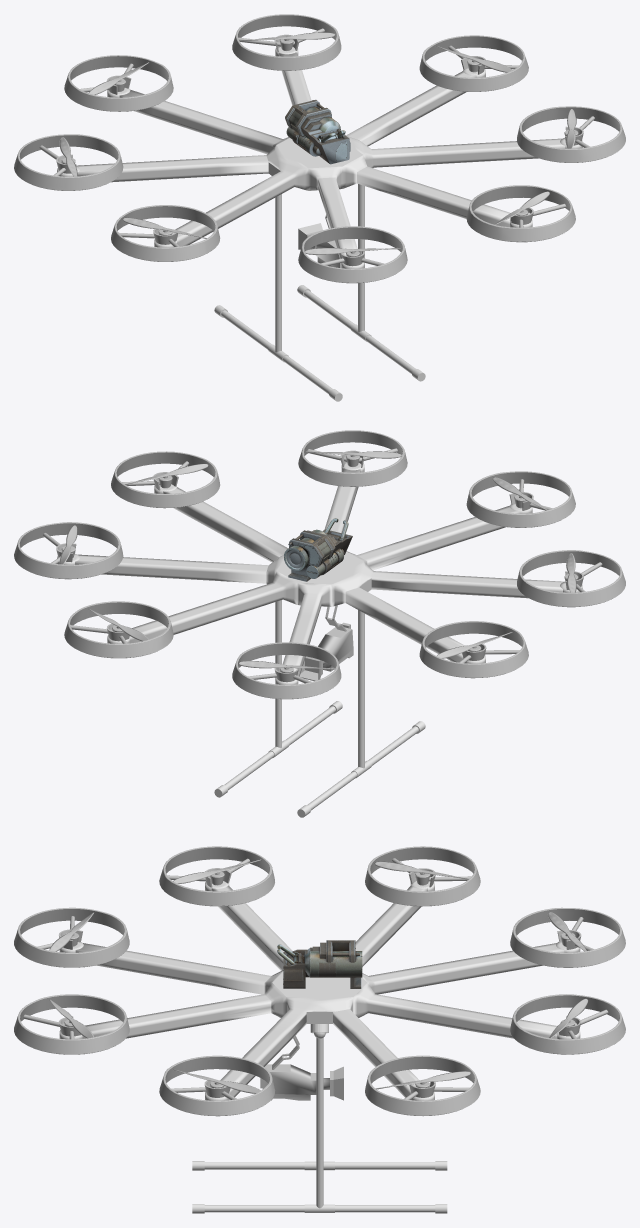
File: drone.fbx
The picture shows the model from 3 angles, top to bottom: view 1: azimuth 30°, elevation 25°; view 2: azimuth 150°, elevation 25°; view 3: azimuth 270°, elevation 25°; orthographic projection. The views are drawn at different scales.
Visible parts, largest first — view 1: Gestell, RotorHinten, RotorVorne, RotorHinten2, RotorVorne2, Staender, Motor, PropellerVorne, PropellerHinten, PropellerHinten2, PropellerVorne2, VideoCamera; view 2: Gestell, RotorVorne, RotorVorne2, RotorHinten, RotorHinten2, Staender, Motor, VideoCamera, PropellerHinten, PropellerVorne, PropellerHinten2, PropellerVorne2; view 3: Gestell, RotorHinten2, RotorVorne2, RotorHinten, RotorVorne, Staender, Motor, VideoCamera, PropellerVorne2, PropellerHinten2, PropellerVorne, PropellerHinten.
Part boxes in pixels (x1=…): Gestell: x1=57, y1=47, x2=582, y2=268; RotorHinten: x1=298, y1=185, x2=575, y2=283; RotorVorne: x1=64, y1=14, x2=341, y2=111; RotorHinten2: x1=111, y1=106, x2=625, y2=261; RotorVorne2: x1=14, y1=35, x2=528, y2=190; Staender: x1=214, y1=184, x2=425, y2=401; Motor: x1=285, y1=99, x2=350, y2=164; PropellerVorne: x1=89, y1=32, x2=335, y2=94; PropellerHinten: x1=304, y1=191, x2=549, y2=254; PropellerHinten2: x1=122, y1=109, x2=576, y2=238; PropellerVorne2: x1=59, y1=46, x2=512, y2=176; VideoCamera: x1=298, y1=223, x2=341, y2=267; Gestell: x1=57, y1=463, x2=582, y2=684; RotorVorne: x1=64, y1=601, x2=341, y2=699; RotorVorne2: x1=14, y1=522, x2=528, y2=678; RotorHinten: x1=298, y1=430, x2=575, y2=527; RotorHinten2: x1=111, y1=451, x2=625, y2=607; Staender: x1=214, y1=600, x2=425, y2=817; Motor: x1=284, y1=518, x2=352, y2=581; VideoCamera: x1=299, y1=622, x2=353, y2=680; PropellerHinten: x1=304, y1=451, x2=547, y2=510; PropellerVorne: x1=89, y1=609, x2=334, y2=669; PropellerHinten2: x1=124, y1=463, x2=576, y2=592; PropellerVorne2: x1=59, y1=525, x2=512, y2=658; Gestell: x1=59, y1=881, x2=580, y2=1100; RotorHinten2: x1=159, y1=846, x2=275, y2=1116; RotorVorne2: x1=365, y1=846, x2=480, y2=1116; RotorHinten: x1=14, y1=907, x2=129, y2=1054; RotorVorne: x1=510, y1=907, x2=625, y2=1054; Staender: x1=192, y1=1032, x2=447, y2=1213; Motor: x1=277, y1=940, x2=362, y2=988; VideoCamera: x1=260, y1=1064, x2=343, y2=1100; PropellerVorne2: x1=374, y1=861, x2=471, y2=1089; PropellerHinten2: x1=173, y1=859, x2=261, y2=1093; PropellerVorne: x1=547, y1=912, x2=588, y2=1038; PropellerHinten: x1=49, y1=912, x2=93, y2=1038.
Size of the model in its own units: 10086 by 4484 by 10081.
